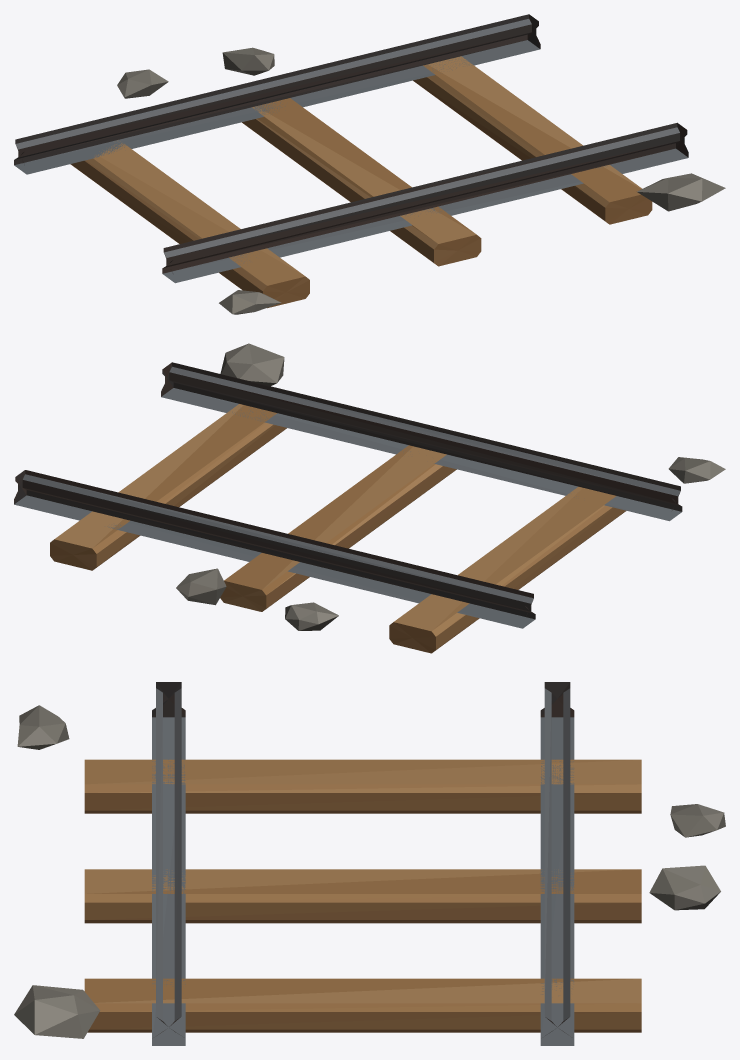
The model's file is mine-inside-out-rail.glb.
The picture shows the model from 3 angles, top to bottom: view 1: azimuth 30°, elevation 25°; view 2: azimuth 150°, elevation 25°; view 3: azimuth 270°, elevation 25°; orthographic projection. The views are drawn at different scales.
Parts seen in each view (by area): view 1: rails, sleepers, ballast; view 2: rails, sleepers, ballast; view 3: sleepers, rails, ballast.
Part boxes in pixels (x1=…): rails: x1=14, y1=14, x2=688, y2=283; sleepers: x1=70, y1=56, x2=652, y2=308; ballast: x1=117, y1=47, x2=725, y2=314; rails: x1=14, y1=362, x2=682, y2=628; sleepers: x1=50, y1=404, x2=626, y2=653; ballast: x1=176, y1=343, x2=725, y2=630; sleepers: x1=84, y1=759, x2=641, y2=1032; rails: x1=152, y1=682, x2=574, y2=1045; ballast: x1=14, y1=705, x2=725, y2=1038.
Size of the model in its own units: 1.2 by 0.11 by 1.1.
